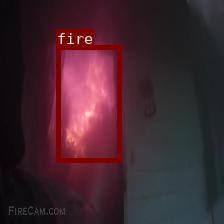fire: (55, 44, 121, 162)
